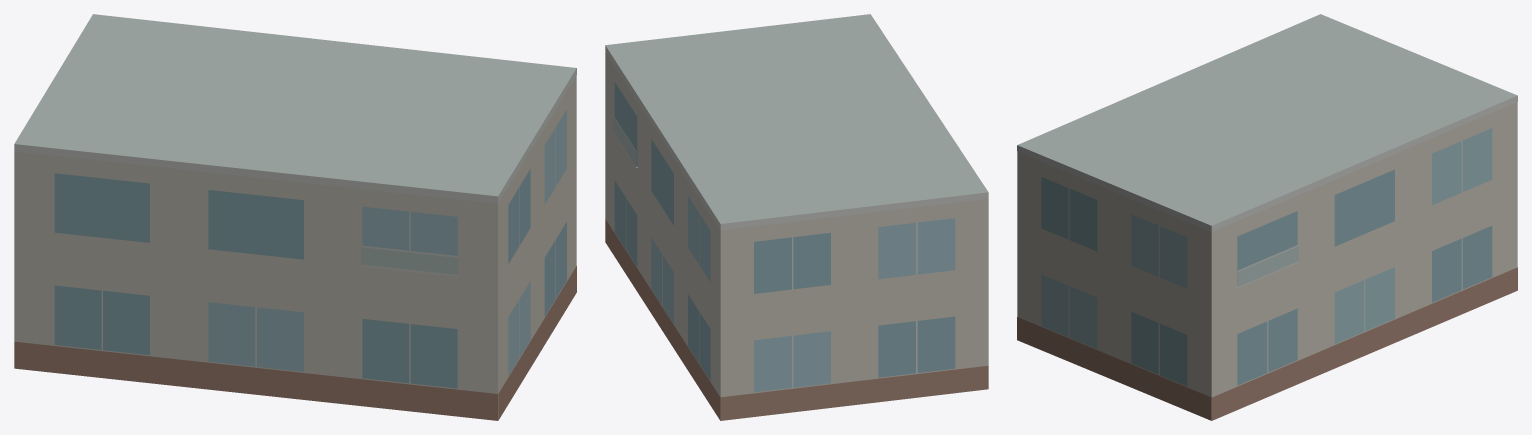
Rendered from survey-upis-32884201.glb.
3 renders of one model, left to right at view 1: azimuth 30°, elevation 25°; view 2: azimuth 150°, elevation 25°; view 3: azimuth 270°, elevation 25°, orthographic. The views are drawn at different scales.
Visible parts, largest first — view 1: survey-upis-32884201.tmp; view 2: survey-upis-32884201.tmp; view 3: survey-upis-32884201.tmp.
Part boxes in pixels (box(x1,y1,x2,y2)): survey-upis-32884201.tmp: box(14, 14, 576, 420); survey-upis-32884201.tmp: box(605, 14, 988, 420); survey-upis-32884201.tmp: box(1017, 14, 1517, 420).
Bounding box in the file's own units: 17.48 × 7.5 × 17.46.
